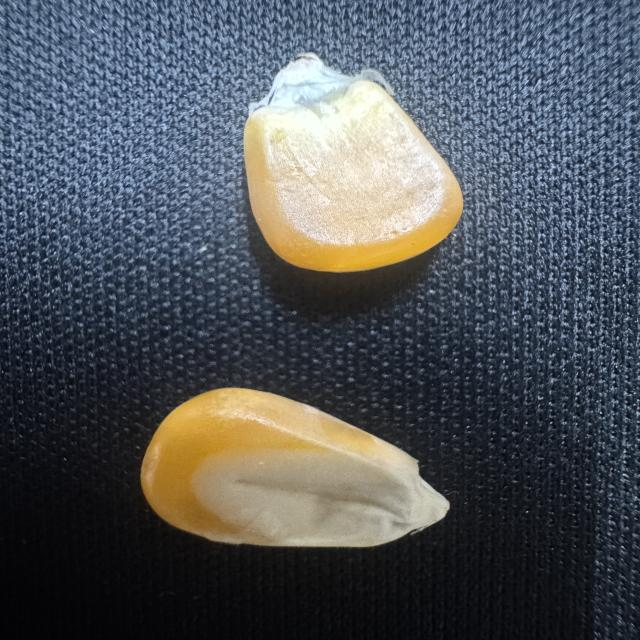Good-Seed: (121, 378, 462, 560), (231, 45, 477, 282)
